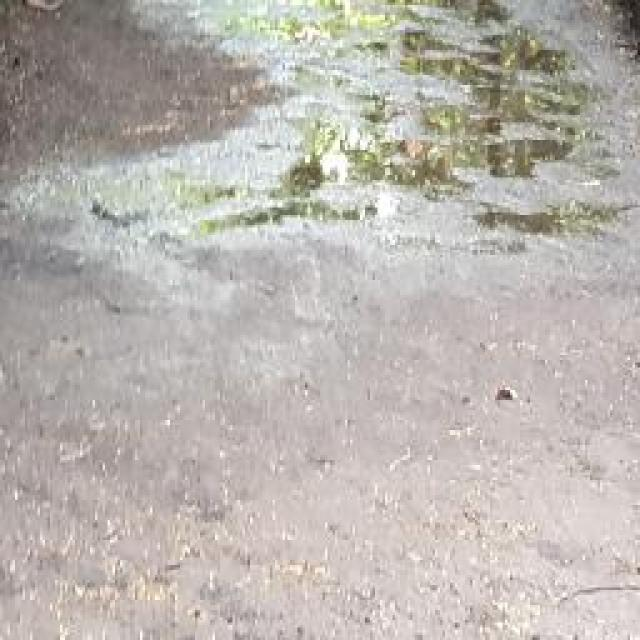waterlogging: (317, 21, 627, 230)
